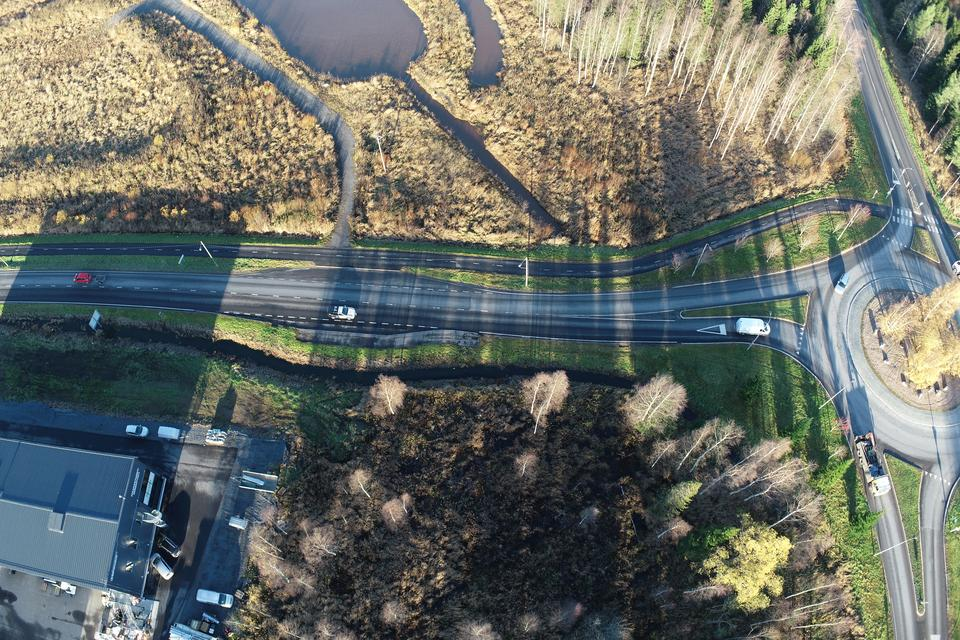intersection: (301, 209, 385, 366), (876, 189, 960, 240)
roundabout: (797, 246, 960, 492)
